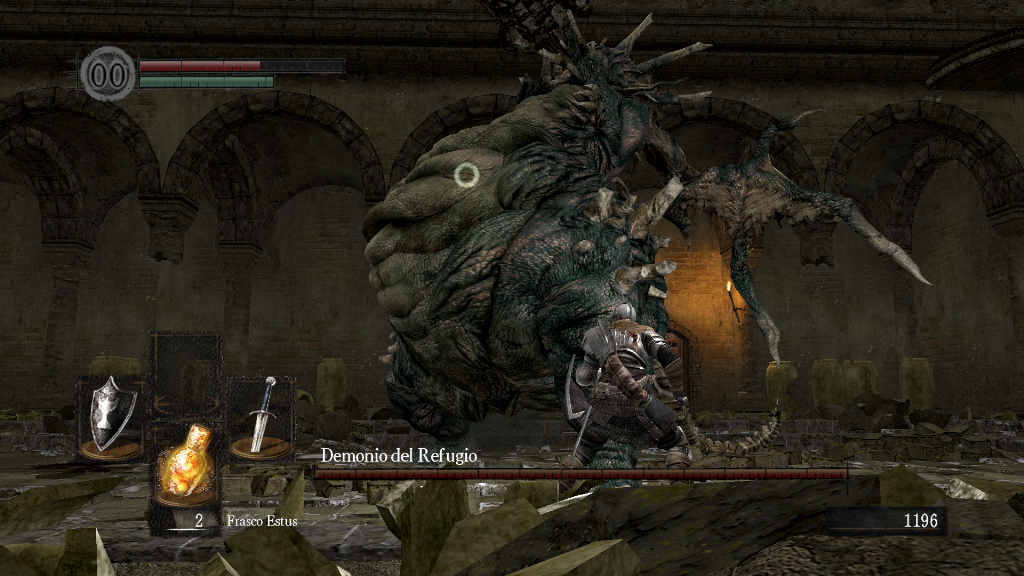asylumDemon: (361, 4, 938, 464)
bossHP: (314, 469, 847, 479)
health: (138, 58, 343, 71)
humanity: (80, 45, 136, 102)
player: (562, 303, 690, 468)
souls: (825, 506, 945, 536)
stamina: (138, 74, 274, 88)
